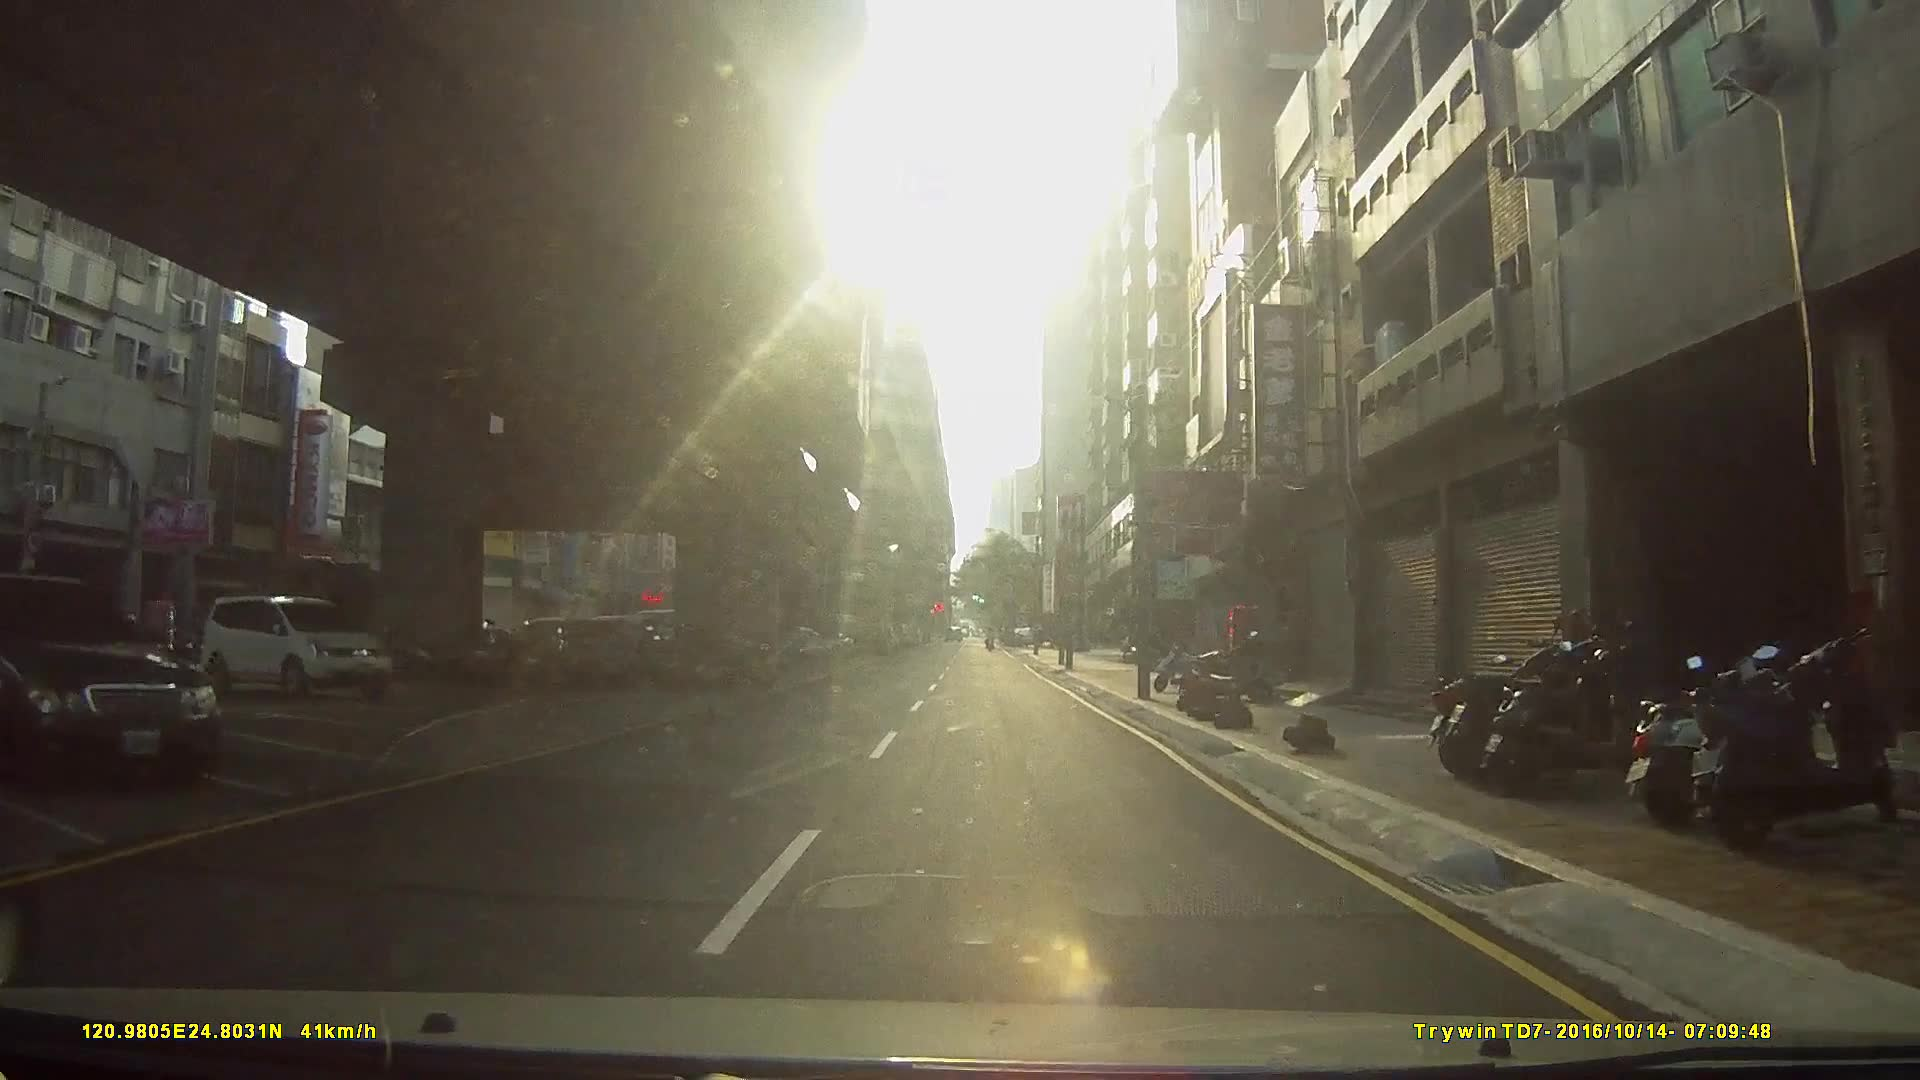vehicle: (0, 568, 219, 787), (199, 596, 394, 699)
